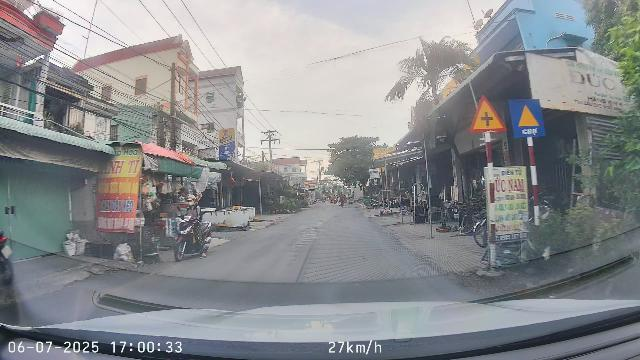442-cho: (510, 99, 546, 137)
